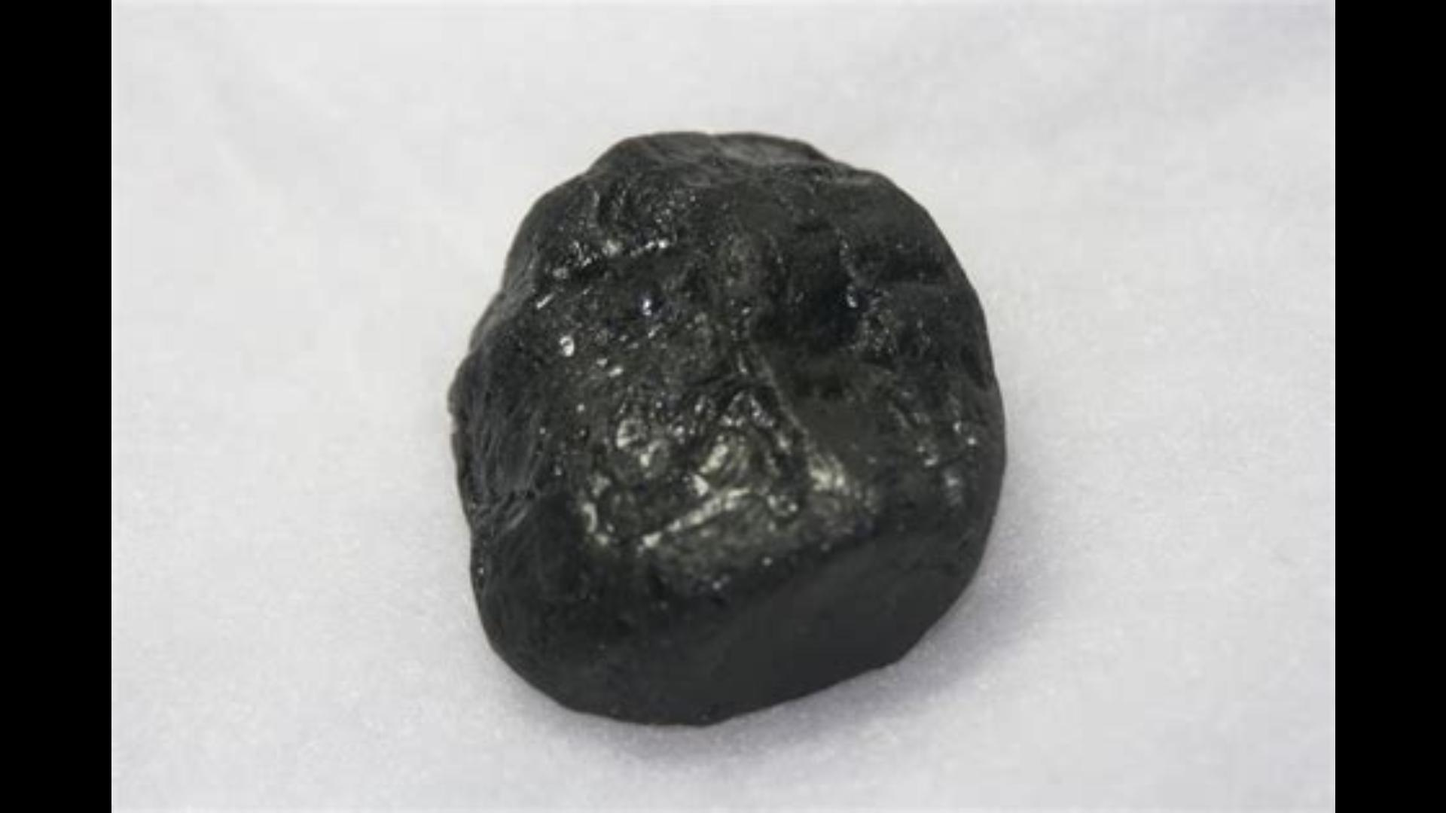rock: (449, 134, 999, 720)
